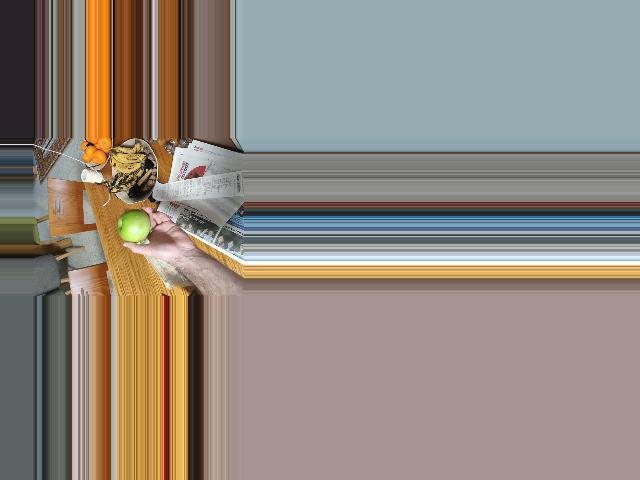apple: (117, 214, 151, 244)
